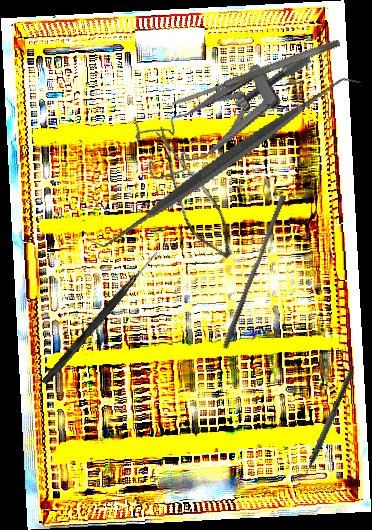Chopper: (293, 366, 355, 486)
Hook Surgical: (41, 248, 160, 387)
Micro Scissor: (127, 126, 254, 265)
Pusher: (222, 192, 287, 352)
Spatula Surgical: (87, 23, 364, 301), (169, 37, 342, 109)
Speculum: (125, 48, 331, 183)
